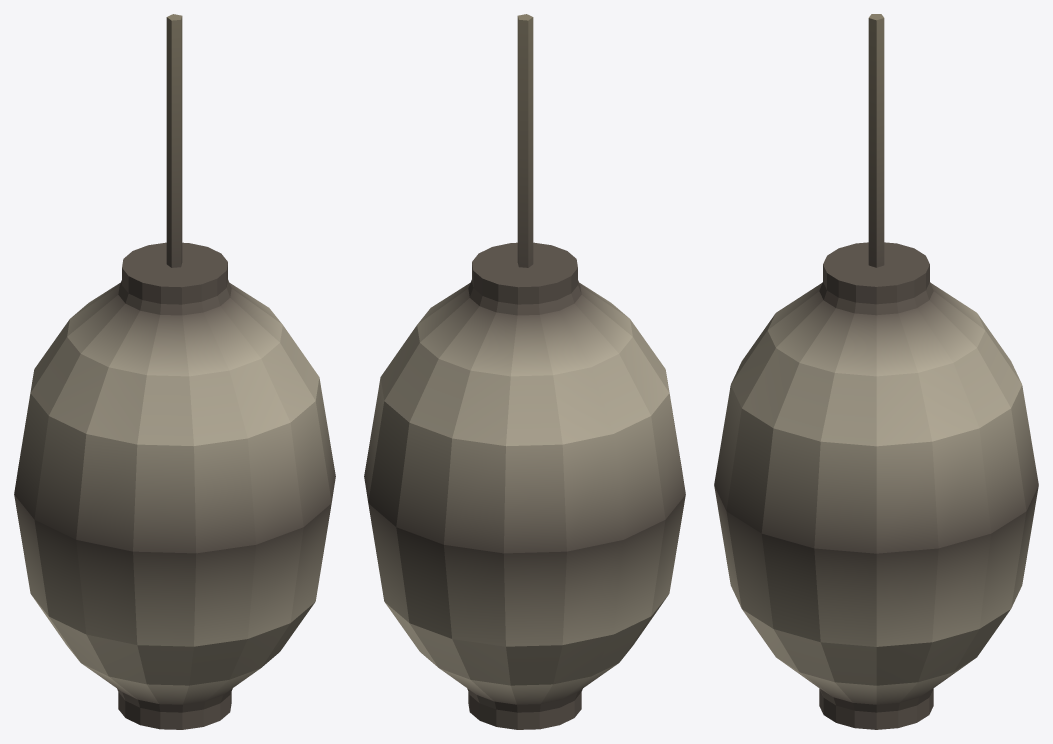
The model's file is prop_chochin.glb.
The picture shows the model from 3 angles, left to right: view 1: azimuth 30°, elevation 25°; view 2: azimuth 150°, elevation 25°; view 3: azimuth 270°, elevation 25°; orthographic projection.
Visible parts, largest first — view 1: prop_chochin; view 2: prop_chochin; view 3: prop_chochin.
Boxes of the visible parts, <box> form: prop_chochin: <box>14,14,335,729</box>; prop_chochin: <box>364,14,685,729</box>; prop_chochin: <box>714,14,1038,729</box>.
Bounding box in the file's own units: 0.352 × 0.824 × 0.352.
